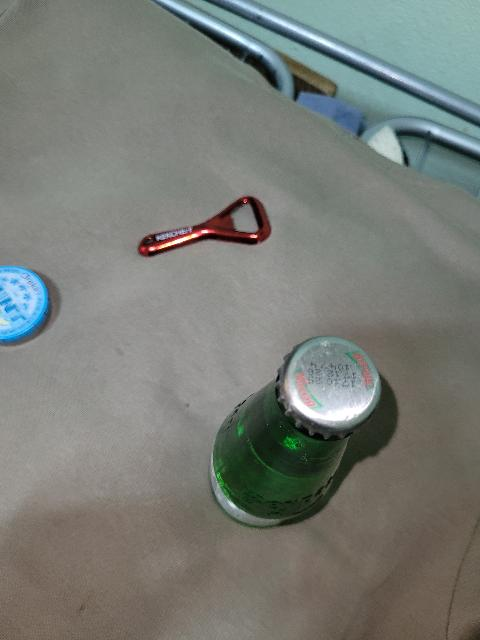Cam: (213, 373, 360, 538)
Metal: (278, 333, 387, 438), (128, 195, 272, 258), (0, 260, 67, 348)
